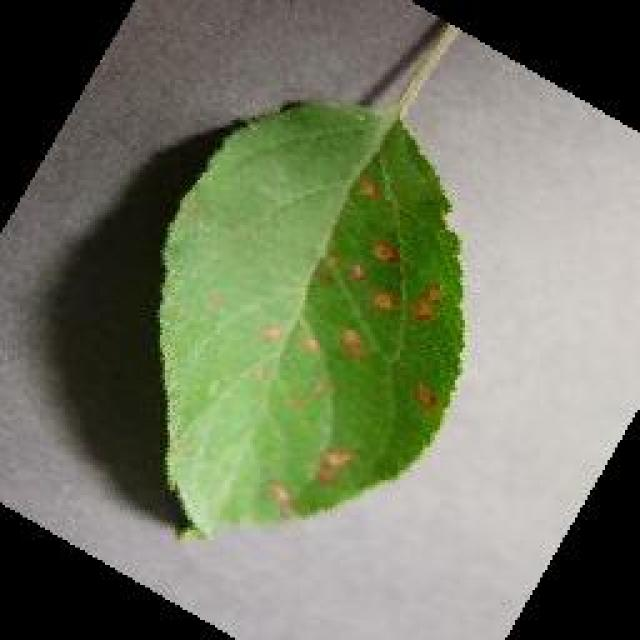apple rust disease: (152, 98, 468, 540)
